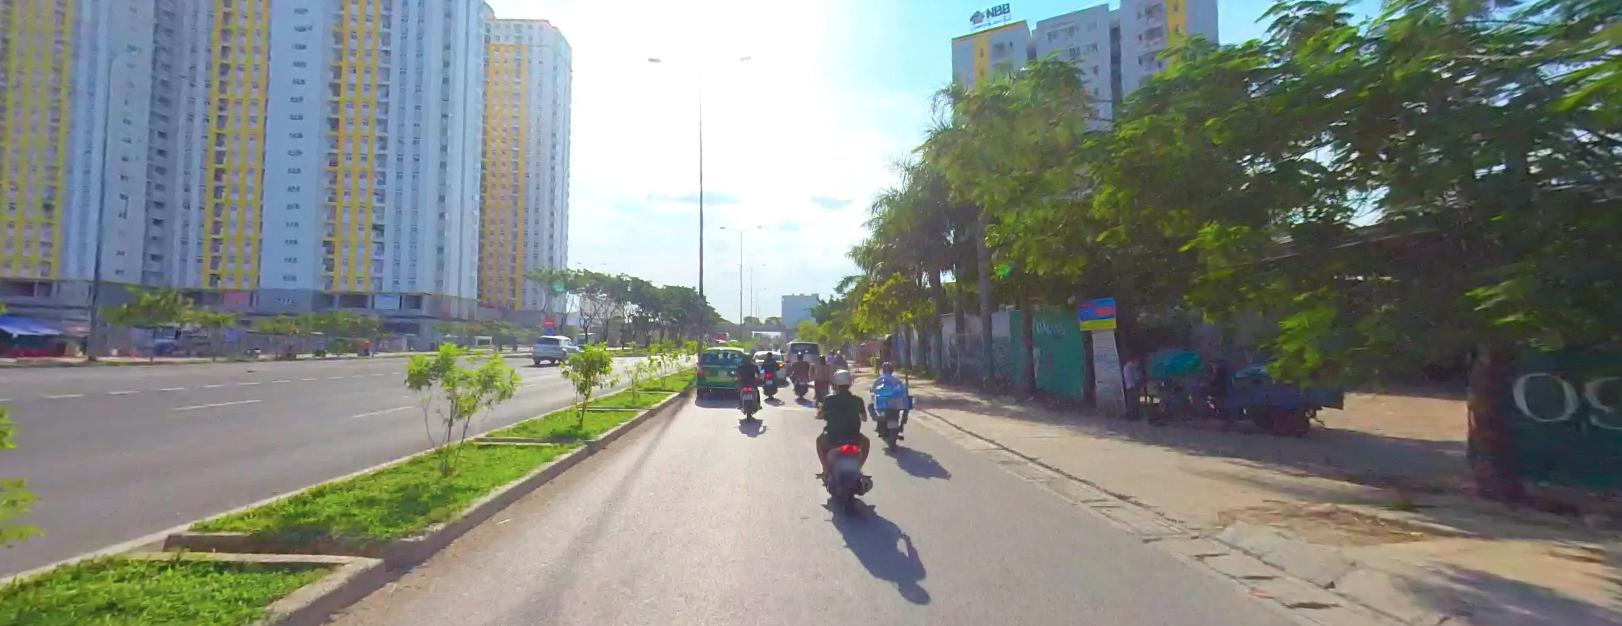Cam nguoc chieu: (543, 316, 553, 324)
Hieu lenh: (543, 324, 555, 332)
